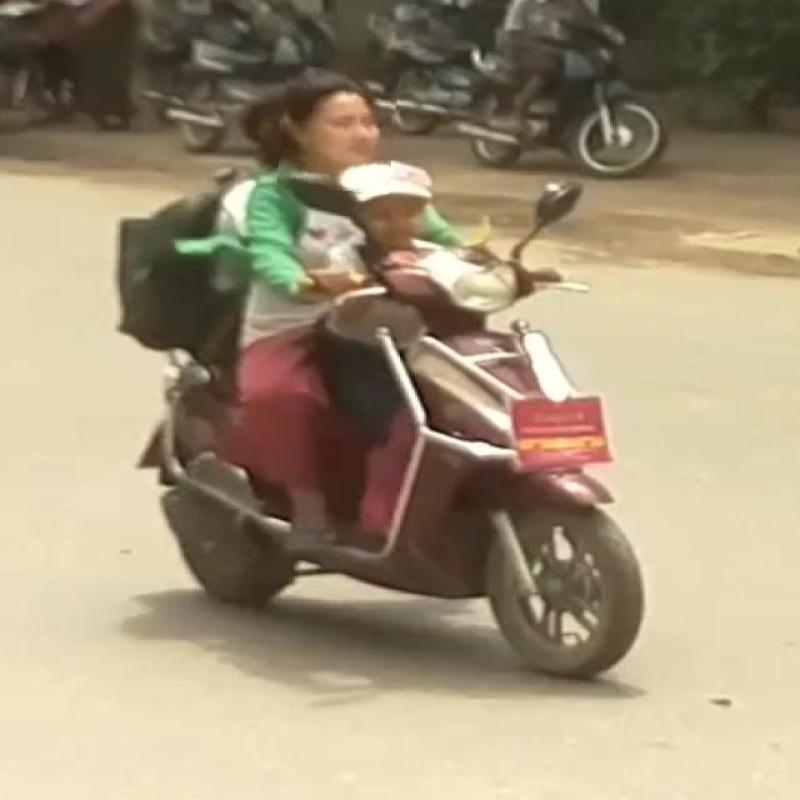nohelmet: (280, 66, 396, 192)
